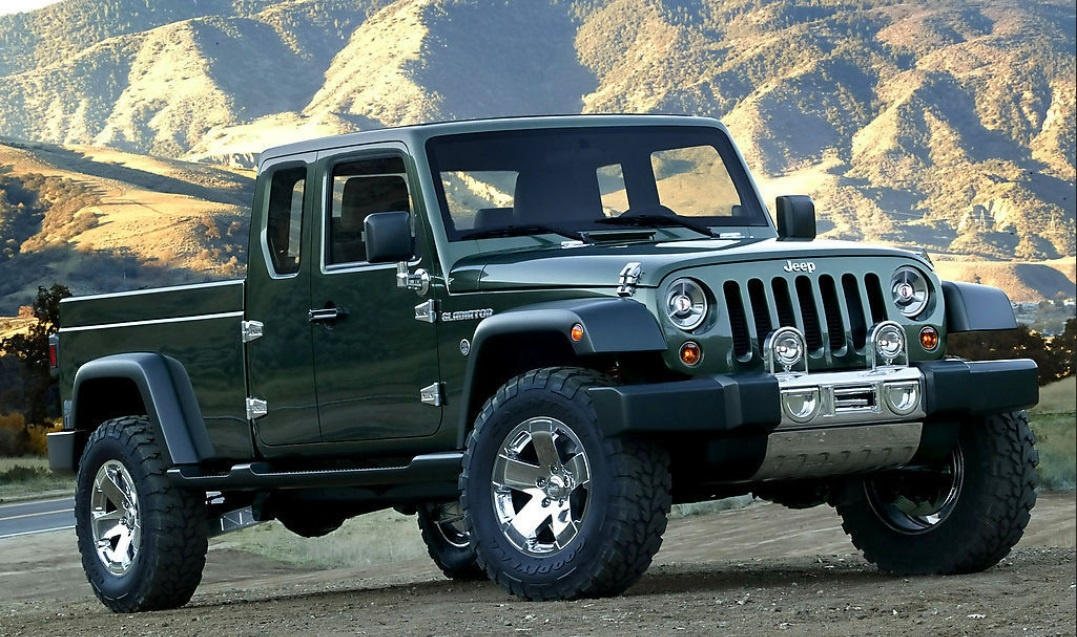jeep: (42, 124, 1043, 582)
